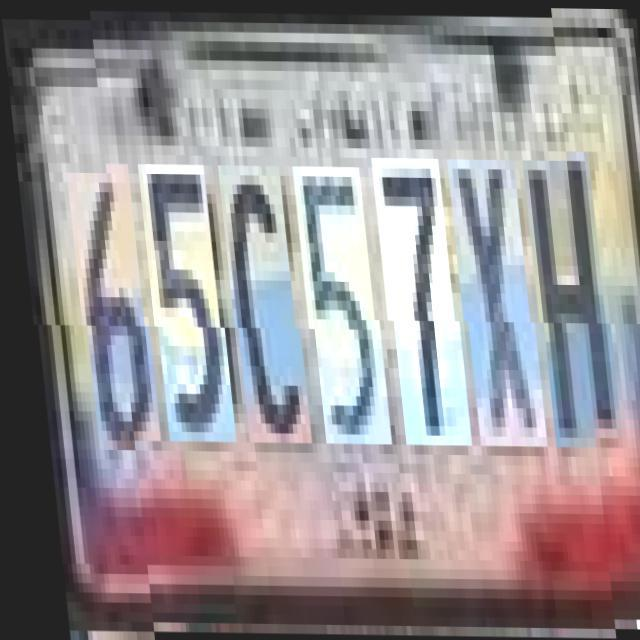5: (138, 164, 227, 442), (294, 165, 382, 444)
6: (66, 163, 152, 441)
7: (372, 157, 462, 444)
C: (218, 165, 302, 442)
H: (524, 159, 614, 446)
X: (448, 158, 538, 445)
